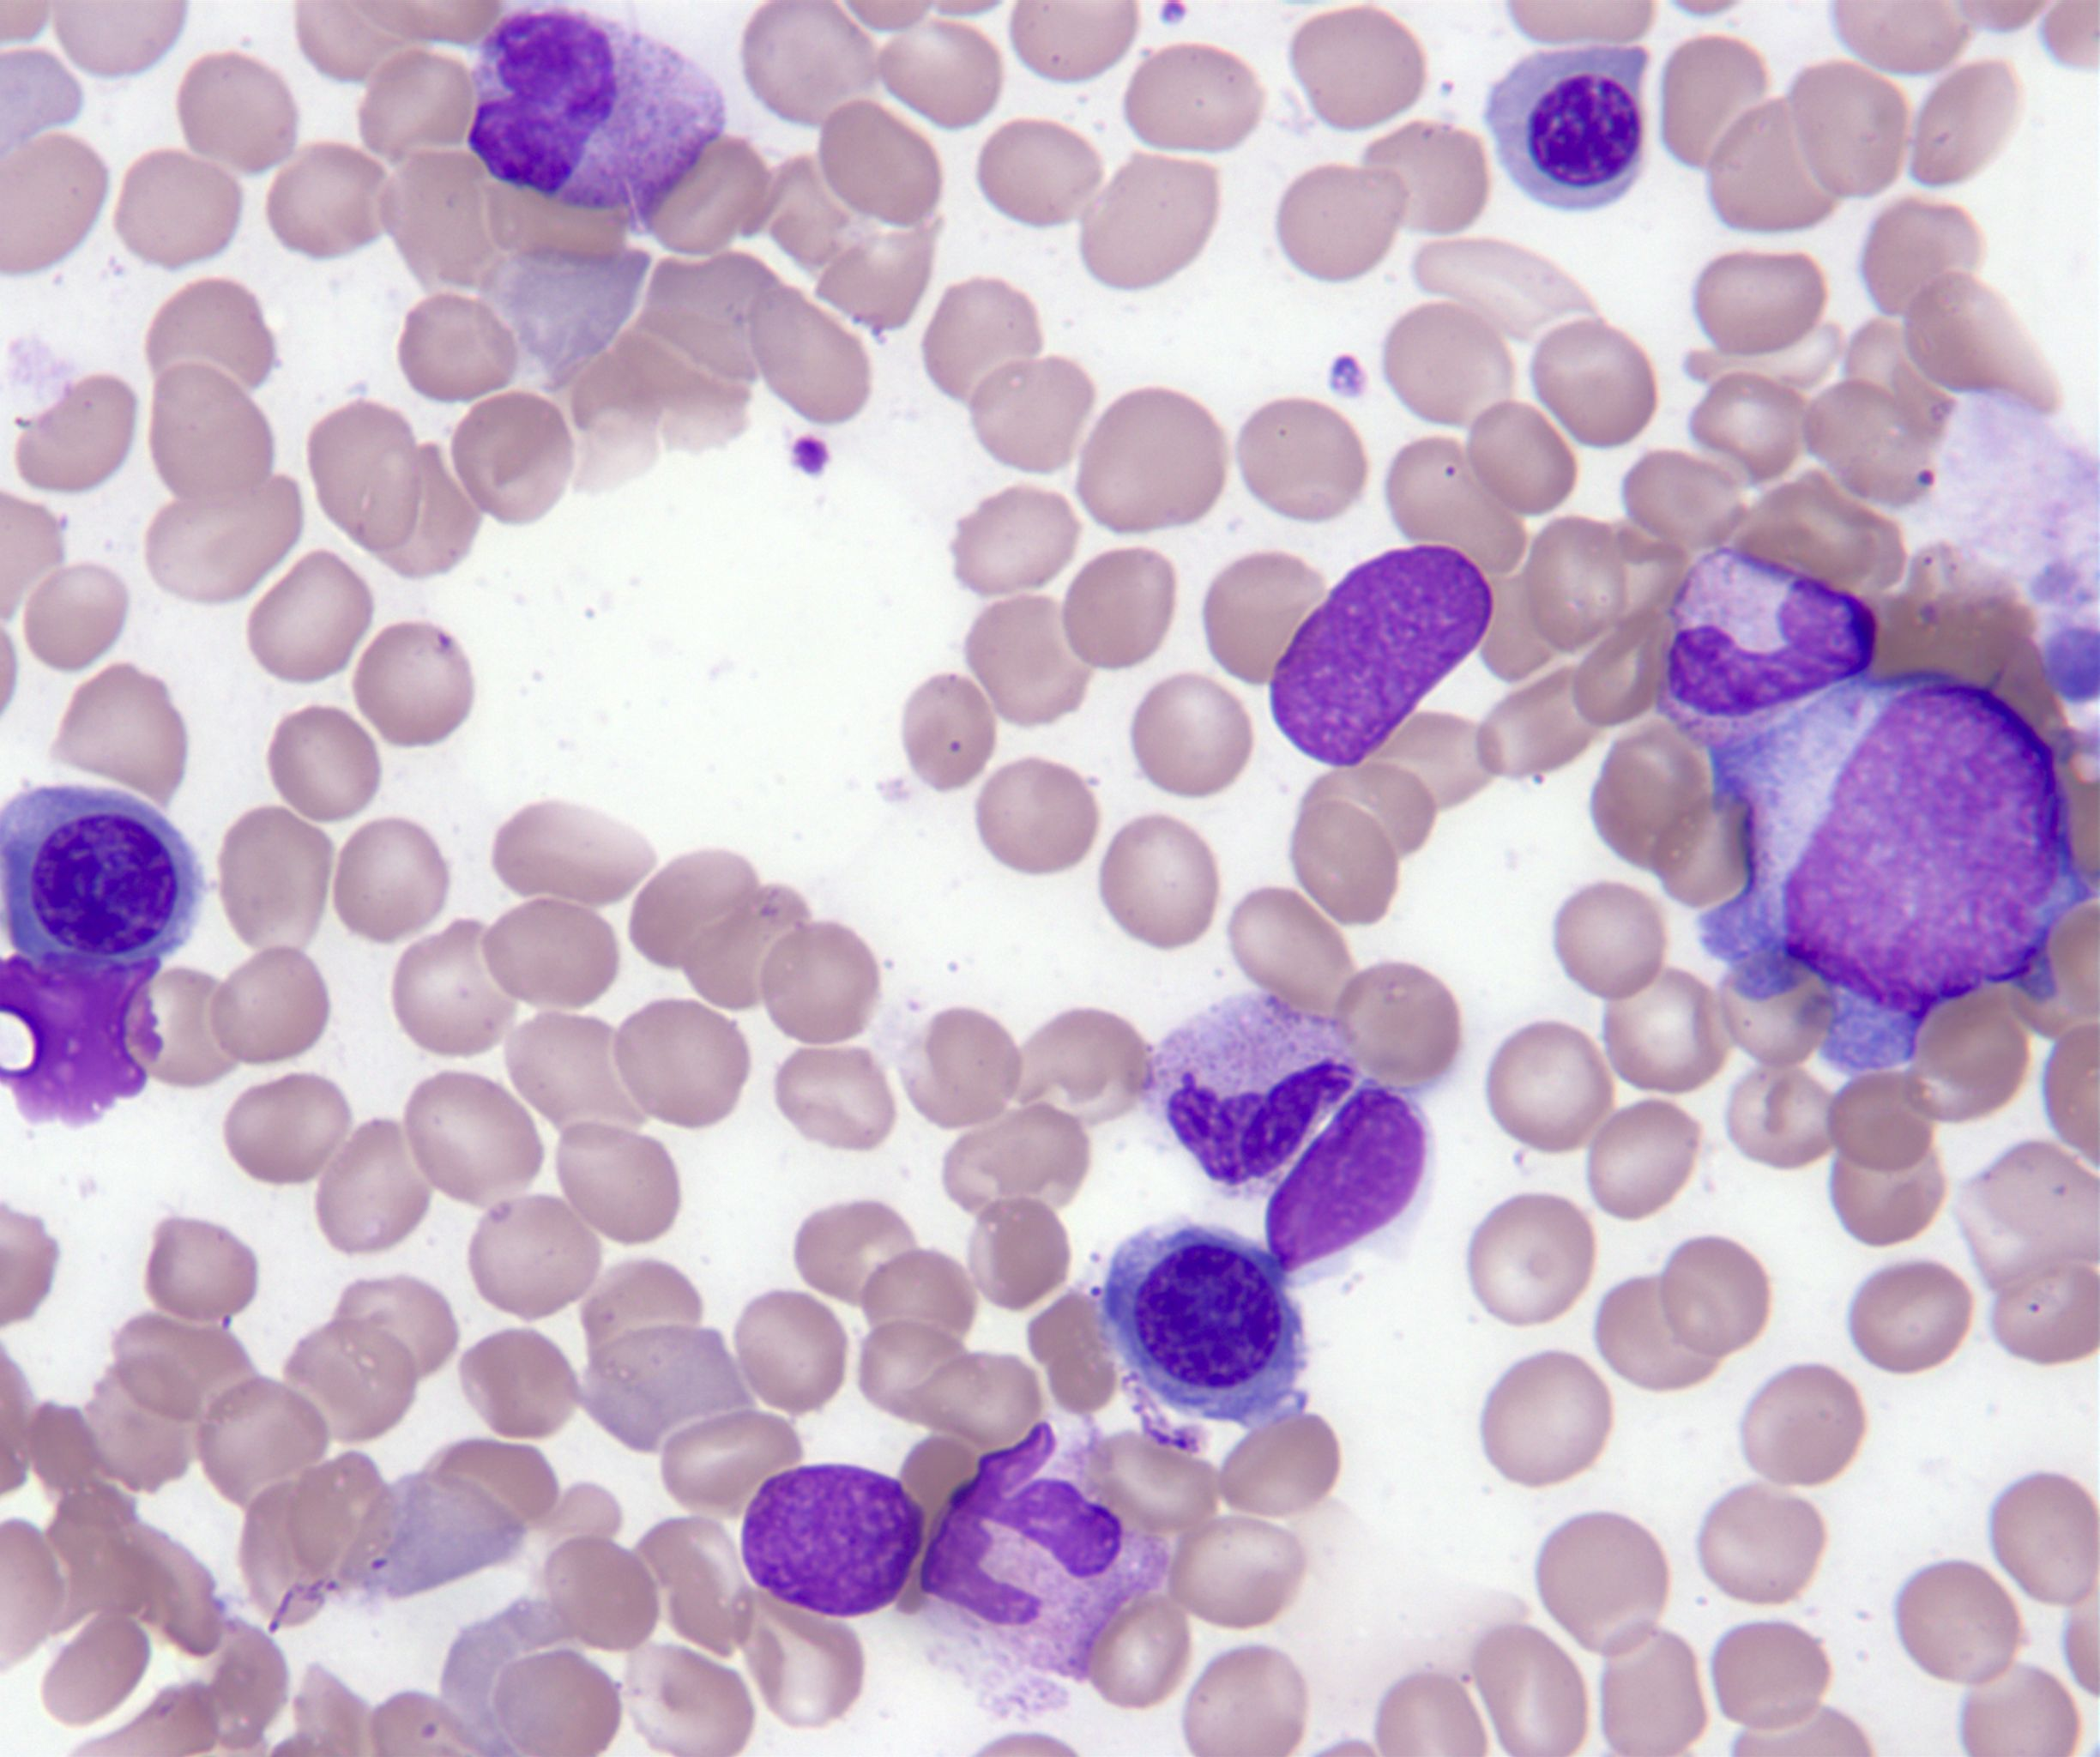2: (1694, 672, 2097, 1075)
23: (1102, 1221, 1310, 1431), (0, 787, 201, 975), (1483, 45, 1650, 211)
32: (1266, 1080, 1434, 1275)
4: (466, 3, 726, 230)
5: (919, 1417, 1172, 1722), (1125, 991, 1359, 1199), (1655, 548, 1880, 749)
x: (1272, 544, 1491, 768), (3, 954, 164, 1131), (743, 1466, 924, 1617)
